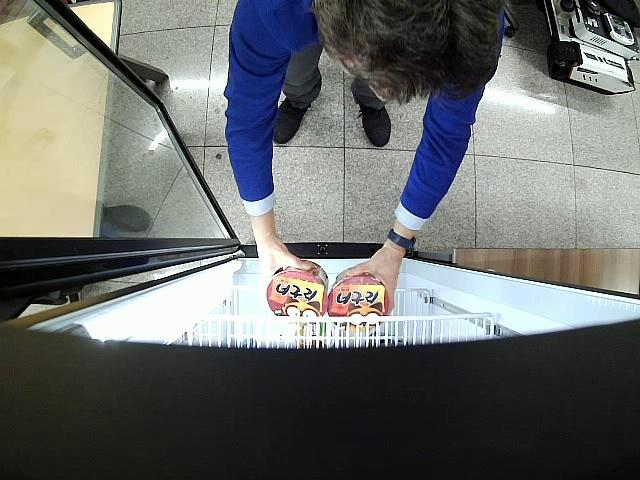00_hand: (336, 248, 405, 316), (251, 218, 314, 277)
05_nuguri_L: (327, 272, 390, 333), (266, 260, 329, 316)
